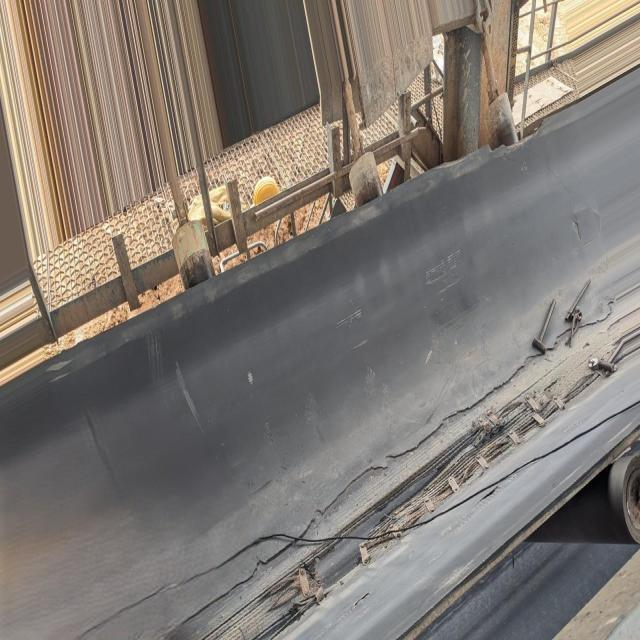Tear: (192, 321, 602, 640)
